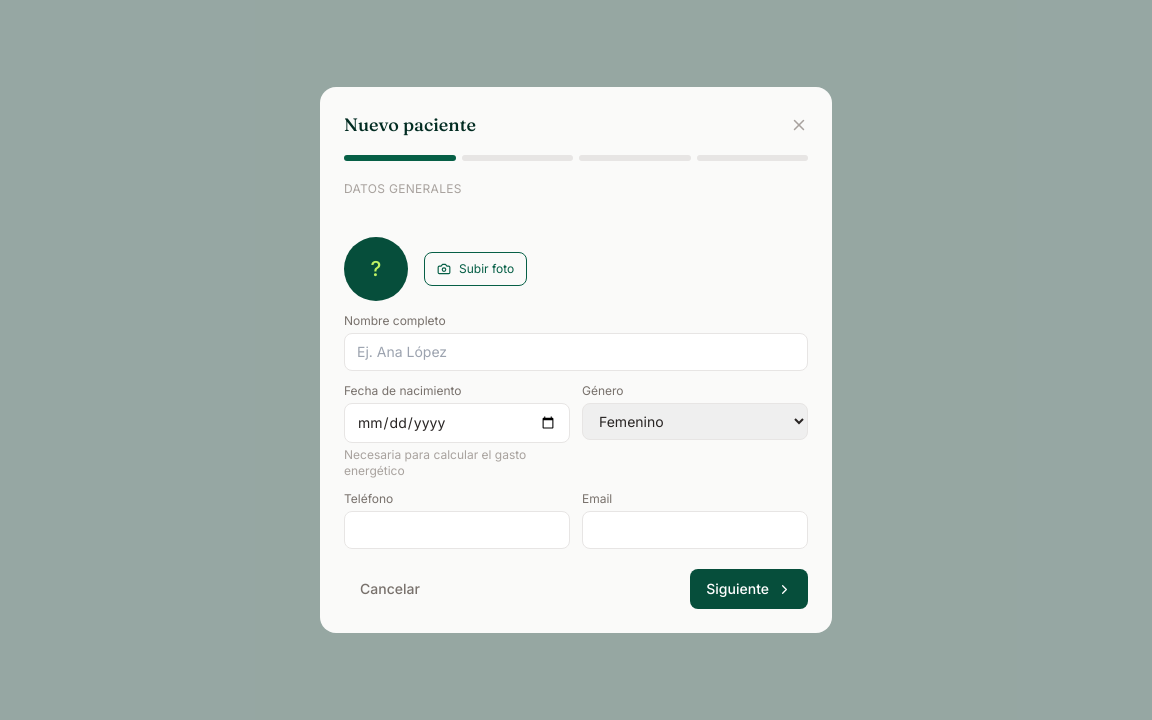
Test case: alergias escritas por el nutriólogo › agrega una alergia fuera del catálogo
The width and height of the screenshot is (1152, 720).
Click the button "Siguiente".
click(749, 589)  # box [690,569,808,609]
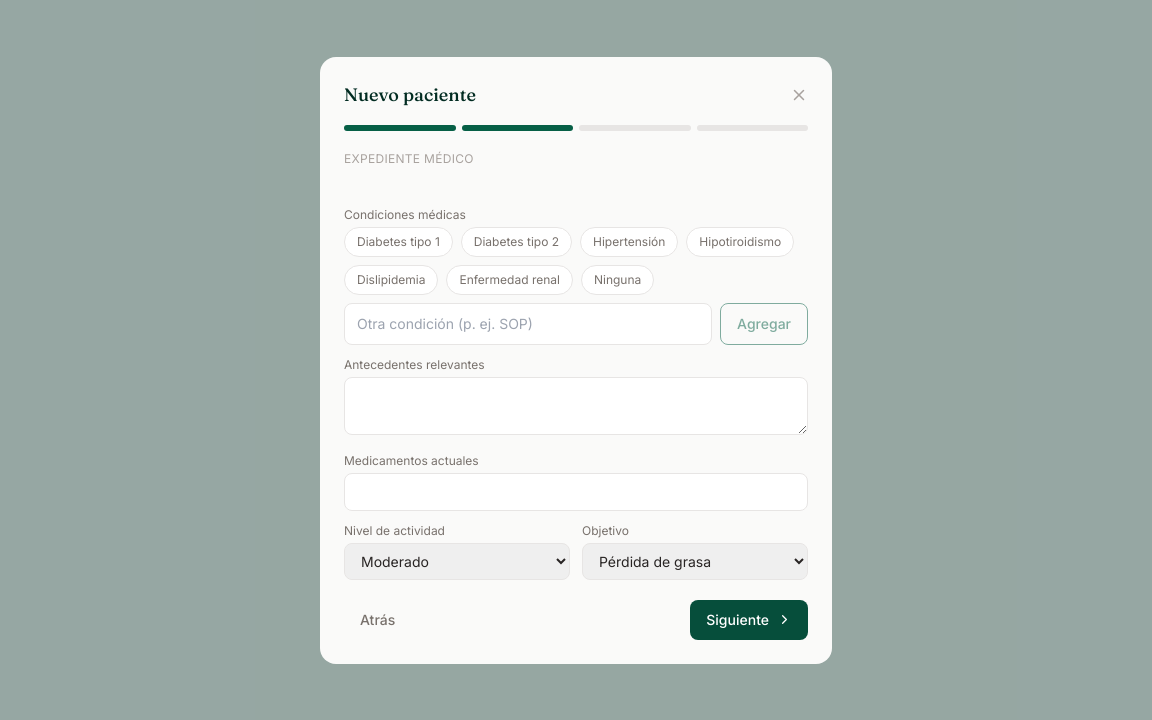
Click the button "Siguiente".
click(749, 620)  # box [690,600,808,640]
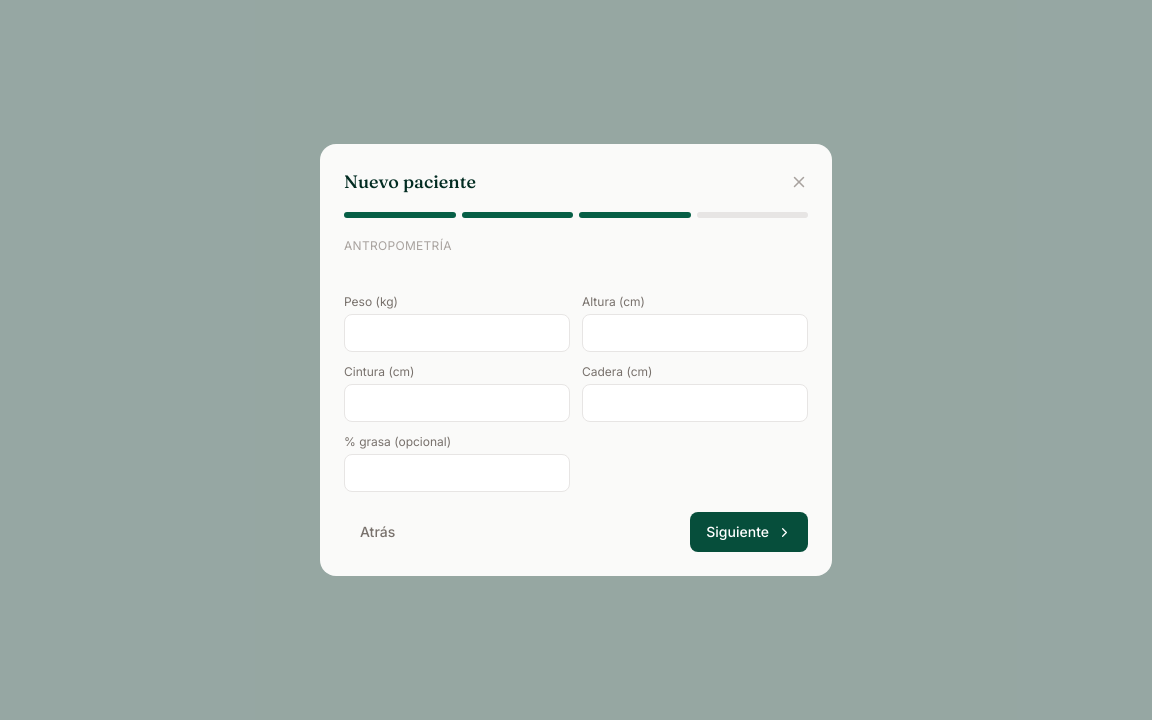
Click the button "Siguiente".
click(749, 532)  # box [690,512,808,552]
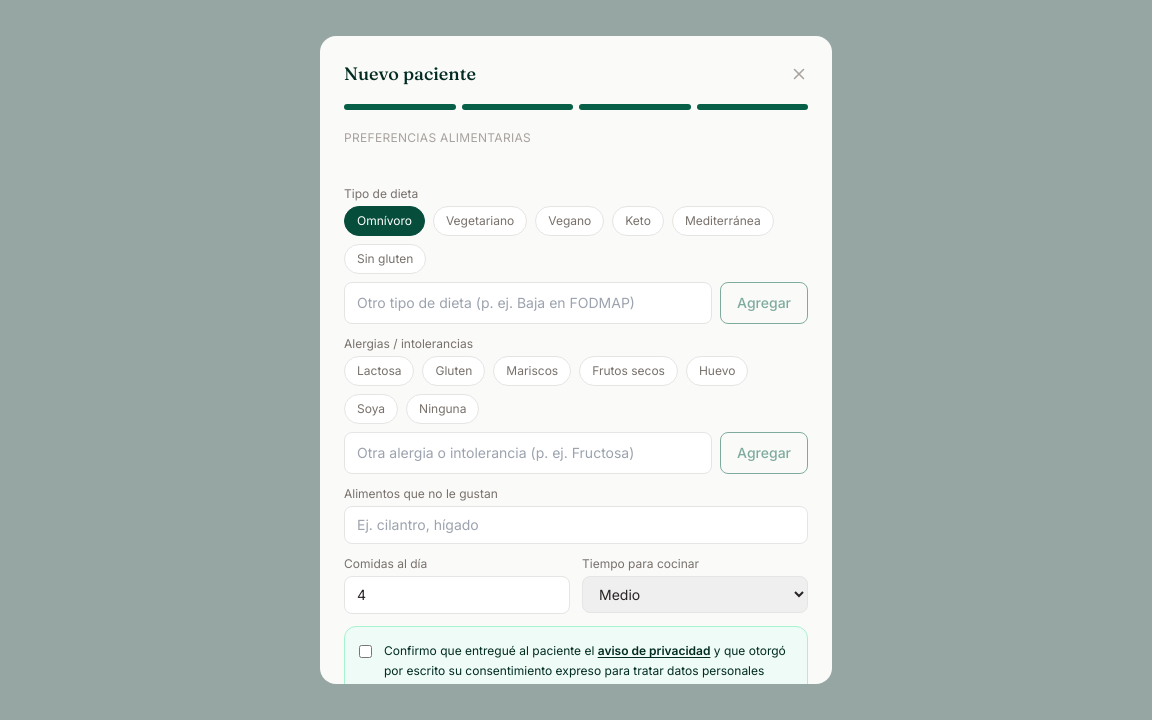
Type "Fructosa" into the field with placeholder "Otra alergia o intolerancia (p. ej. Fructosa)".
click(528, 453); type("Fructosa")  # box [344,432,712,474]
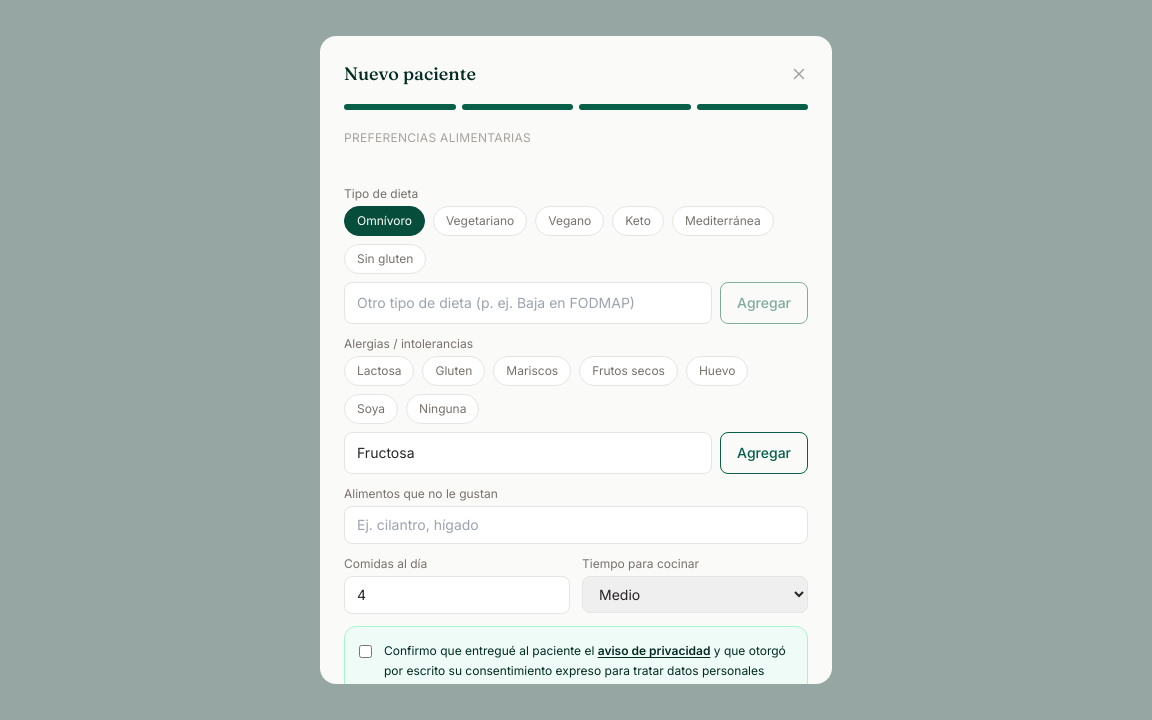
Click the button "Agregar" below "Alergias / intolerancias".
click(764, 453)  # box [720,432,808,474]
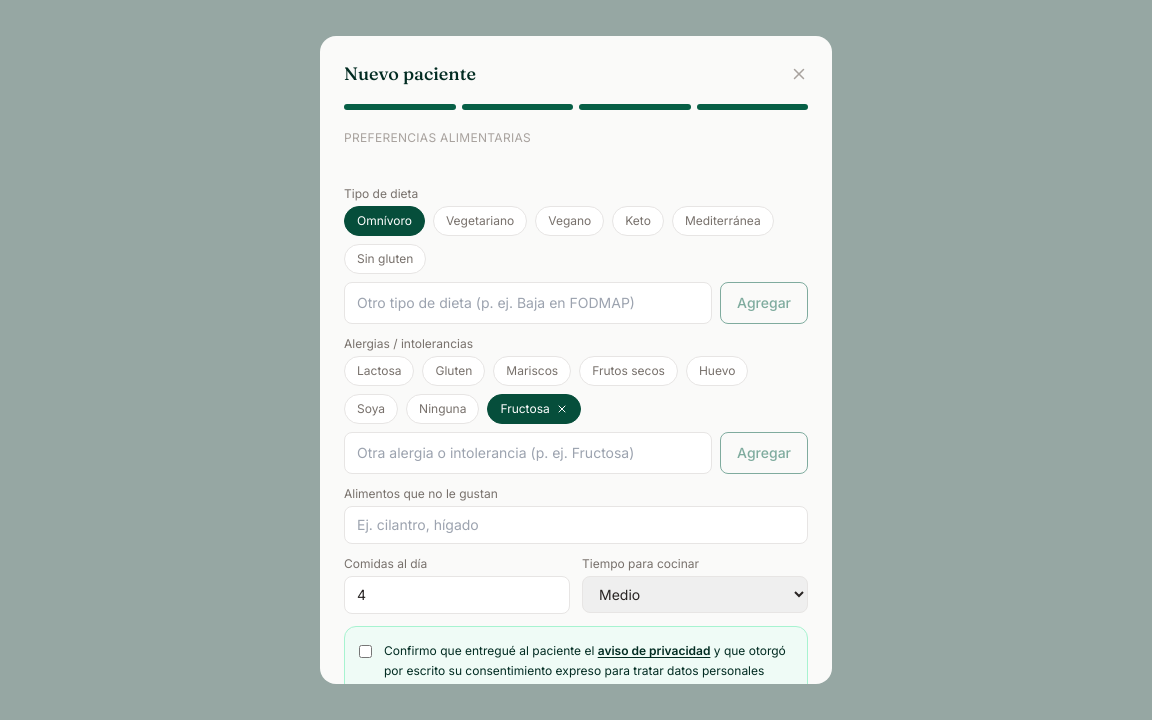
Result: the button with aria-label "Quitar Fructosa" is shown at [487,394,581,424]
